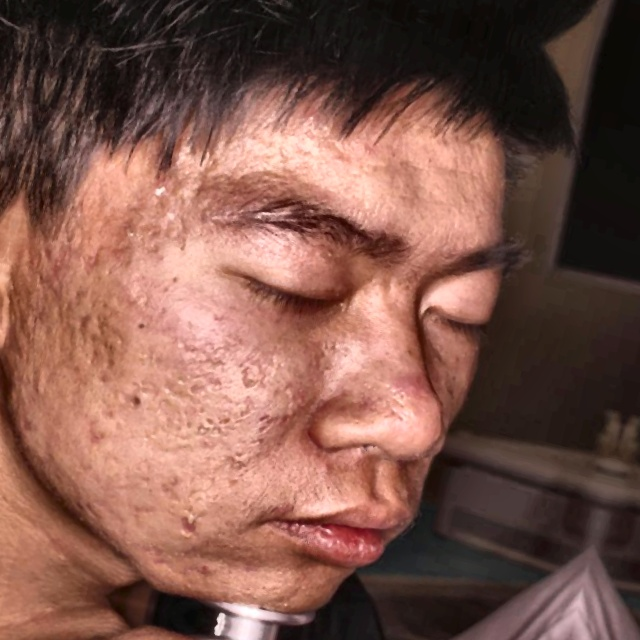comedone: (391, 360, 434, 416), (174, 505, 209, 542)
